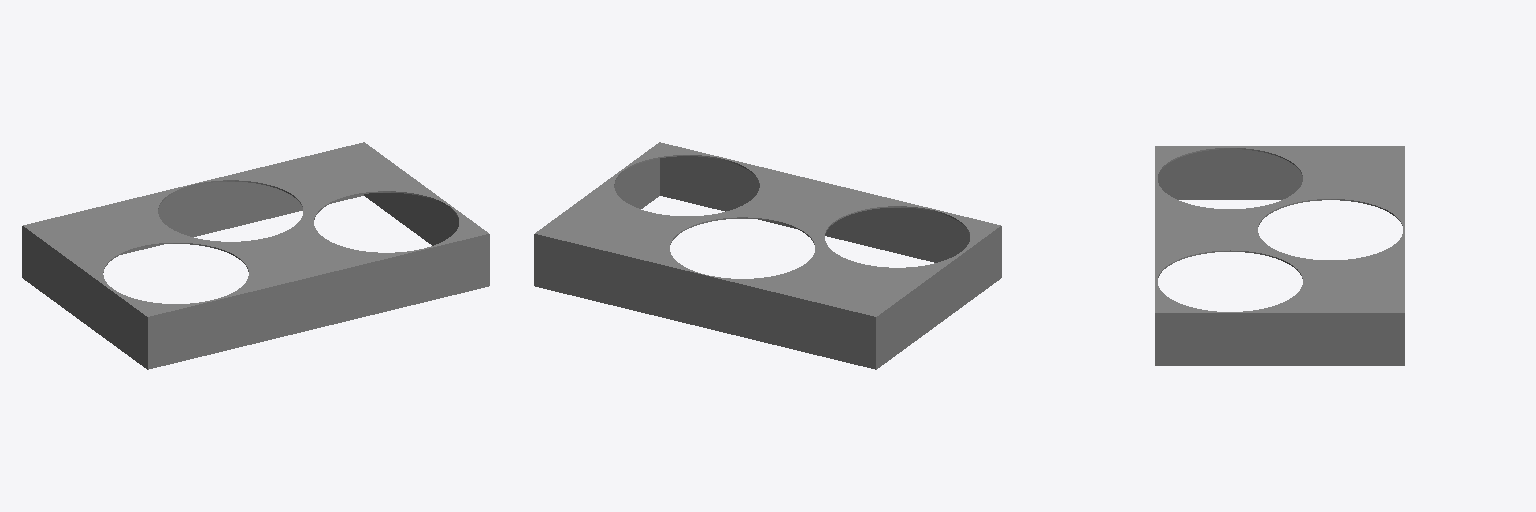
File: tgt.obj
The picture shows the model from 3 angles: view 1: azimuth 30°, elevation 25°; view 2: azimuth 150°, elevation 25°; view 3: azimuth 270°, elevation 25°; orthographic projection.
Visible parts, largest first — view 1: Obj_000004; view 2: Obj_000004; view 3: Obj_000004.
Boxes of the visible parts, box(x1,y1,x2,y2) form: Obj_000004: box(22, 142, 489, 369); Obj_000004: box(534, 142, 1001, 369); Obj_000004: box(1155, 146, 1404, 365).
Bounding box in the file's own units: 271 × 40 × 172.